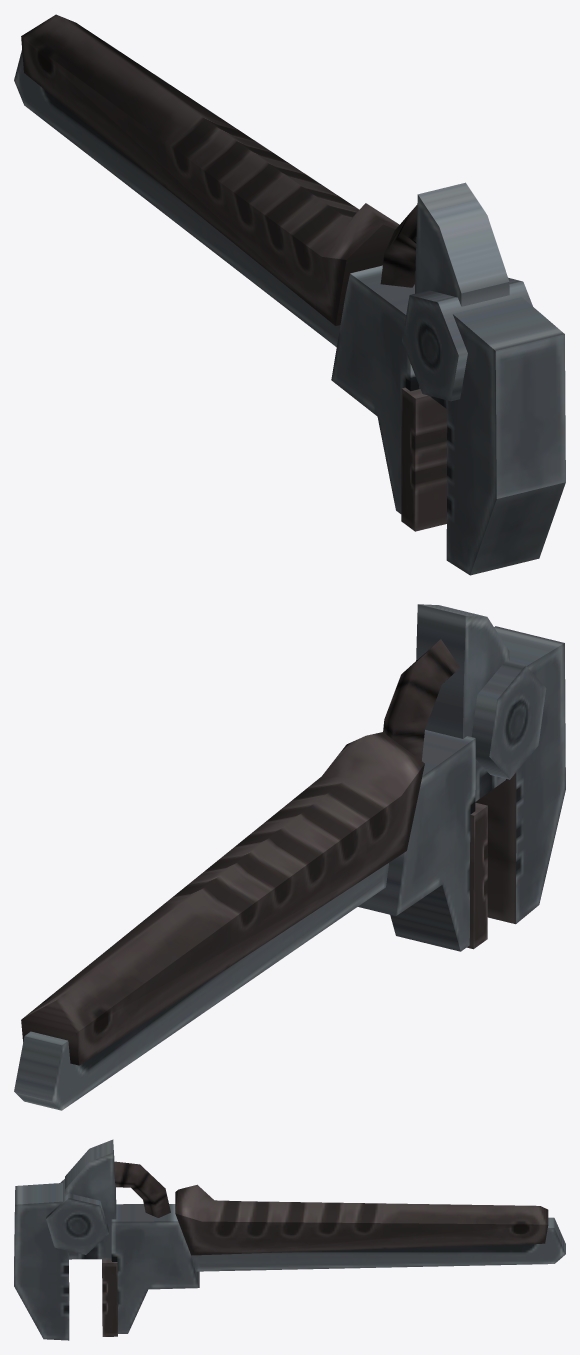
Rendered from Wrench.glb.
3 renders of one model, top to bottom at view 1: azimuth 30°, elevation 25°; view 2: azimuth 150°, elevation 25°; view 3: azimuth 270°, elevation 25°, orthographic. The views are drawn at different scales.
Visible parts, largest first — view 1: SM_weapon_wrench; view 2: SM_weapon_wrench; view 3: SM_weapon_wrench.
Part boxes in pixels (box(x1,y1,x2,y2)): SM_weapon_wrench: box(14, 14, 565, 575); SM_weapon_wrench: box(14, 604, 565, 1110); SM_weapon_wrench: box(14, 1139, 565, 1340).
Size of the model in its own units: 0.0756 by 0.2833 by 0.7648.
1 material, 1 textured.
